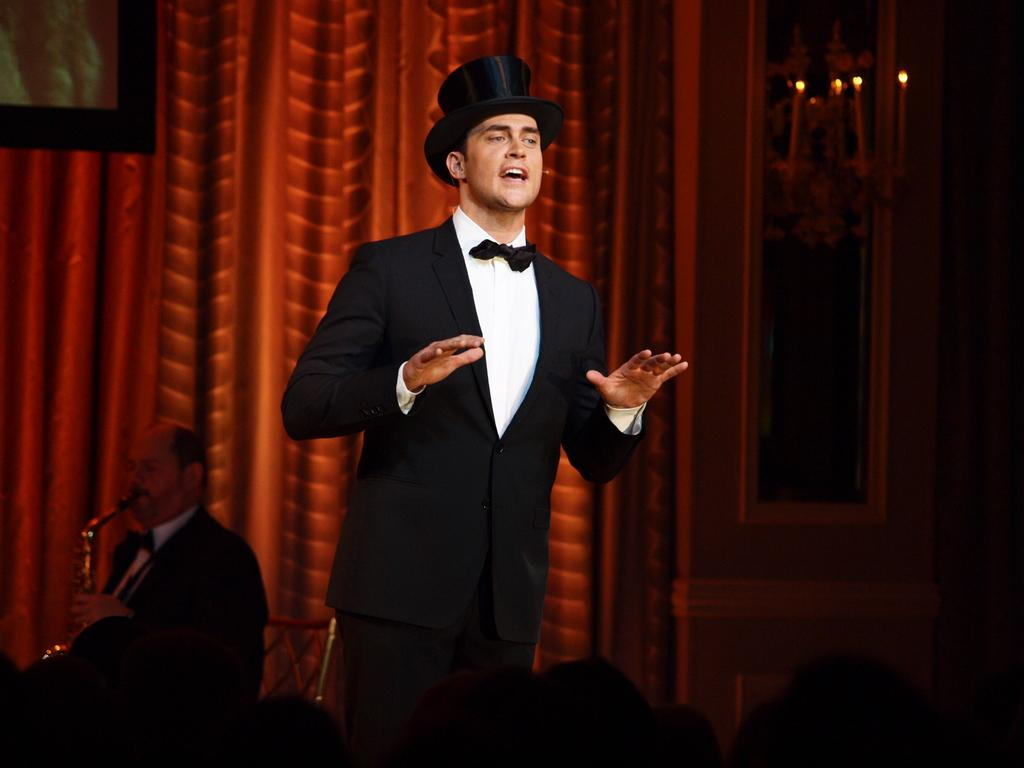Hat: (423, 58, 560, 192)
